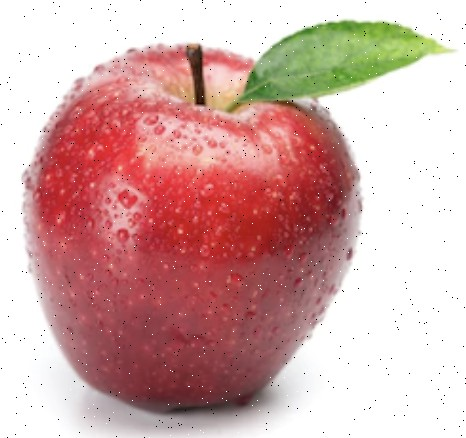fresh_apple: (22, 45, 361, 415)
